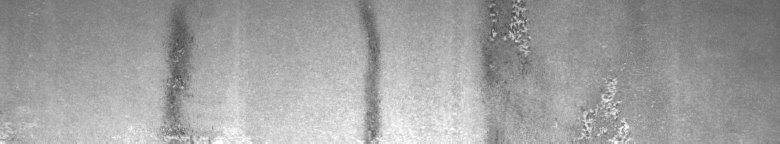hc: (486, 4, 638, 136)
